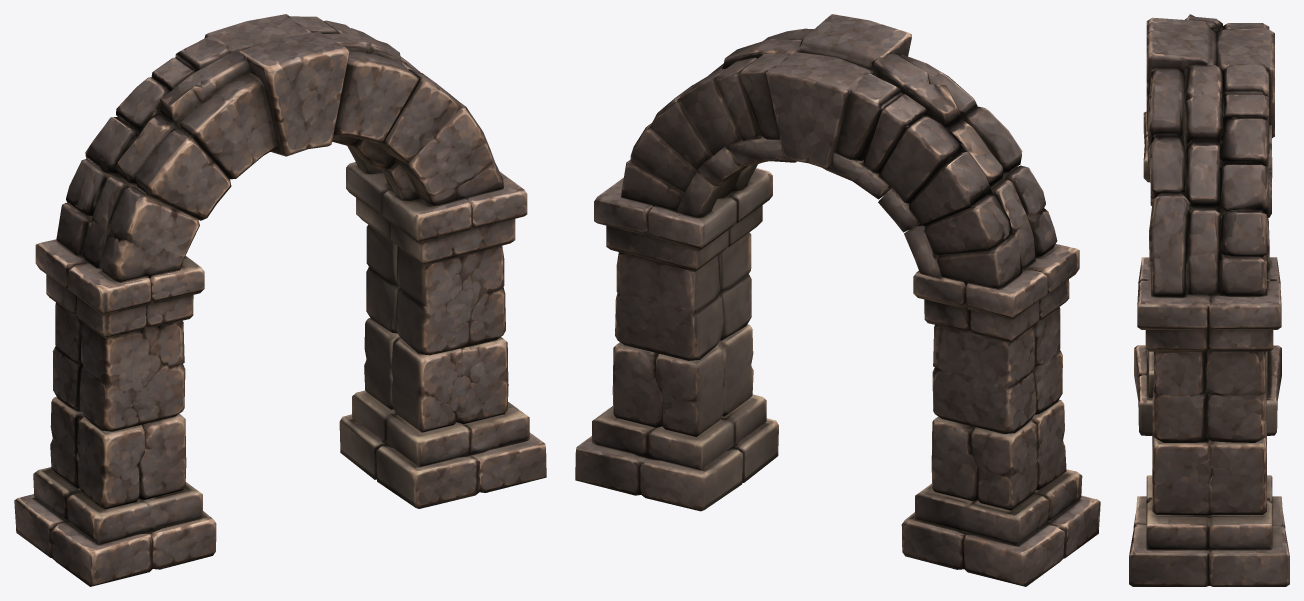
The model's file is stone+arch+3d+model.fbx.
3 views of the same model, side by side, from view 1: azimuth 30°, elevation 25°; view 2: azimuth 150°, elevation 25°; view 3: azimuth 270°, elevation 25° (orthographic). The views are drawn at different scales.
Parts seen in each view (by area): view 1: tripo_3a56e450_0eb2_4e06_9b53_f6de466299ab; view 2: tripo_3a56e450_0eb2_4e06_9b53_f6de466299ab; view 3: tripo_3a56e450_0eb2_4e06_9b53_f6de466299ab.
Part boxes in pixels (x1=…): tripo_3a56e450_0eb2_4e06_9b53_f6de466299ab: x1=14, y1=14, x2=546, y2=586; tripo_3a56e450_0eb2_4e06_9b53_f6de466299ab: x1=575, y1=14, x2=1100, y2=586; tripo_3a56e450_0eb2_4e06_9b53_f6de466299ab: x1=1129, y1=14, x2=1289, y2=586.
Size of the model in its own units: 0.9995 by 0.9888 by 0.3198.
